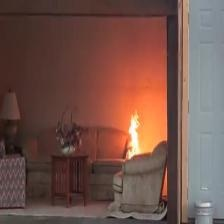fire: (112, 100, 157, 170)
